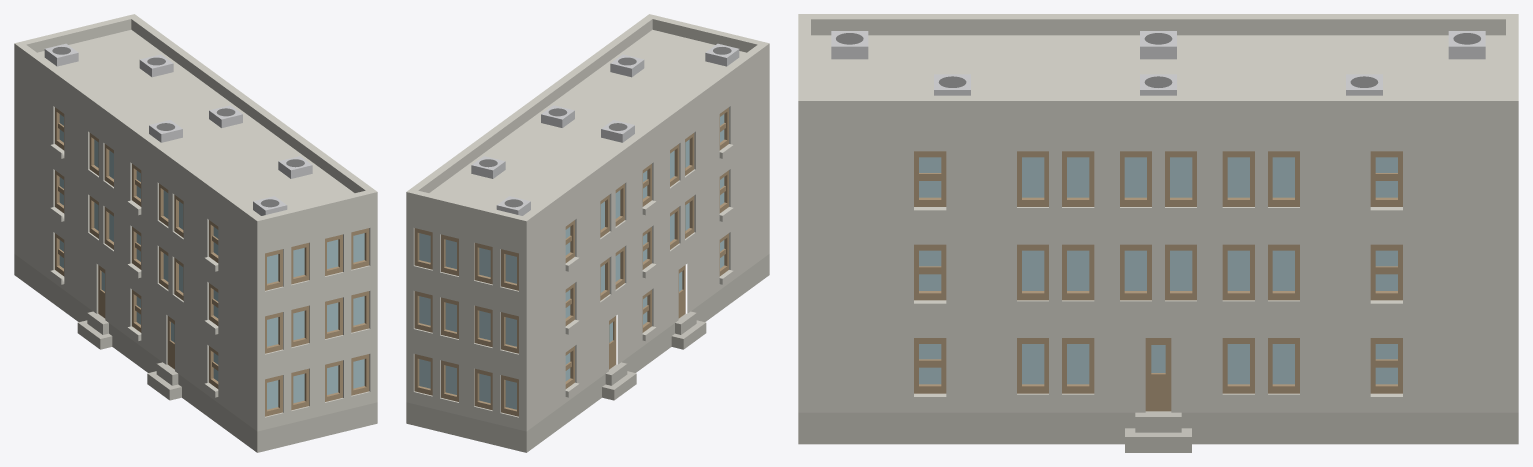
The model's file is Building 1.fbx.
3 renders of one model, left to right at view 1: azimuth 30°, elevation 25°; view 2: azimuth 150°, elevation 25°; view 3: azimuth 270°, elevation 25°, orthographic. The views are drawn at different scales.
Visible parts, largest first — view 1: Building 1; view 2: Building 1; view 3: Building 1.
Part boxes in pixels (x1,y1,x2,y2): Building 1: [14, 14, 377, 452]; Building 1: [406, 14, 769, 452]; Building 1: [798, 14, 1518, 452].
Size of the model in its own units: 240 by 368 by 700.
